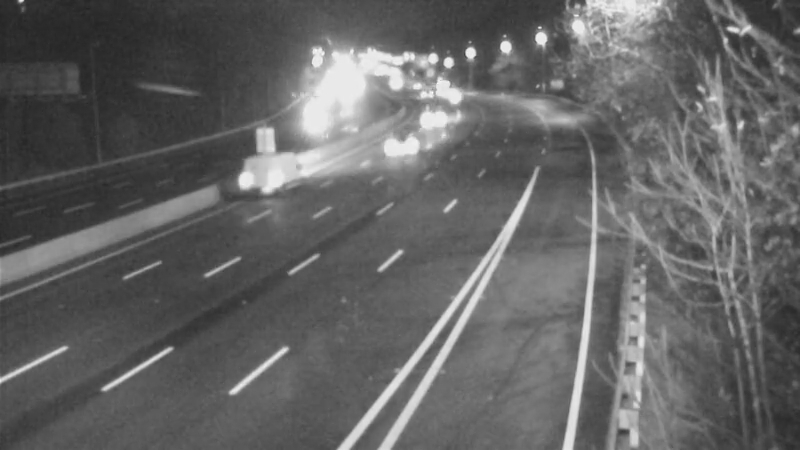vehicle: (215, 141, 295, 221), (408, 90, 458, 140), (379, 124, 429, 174), (294, 93, 344, 143)
